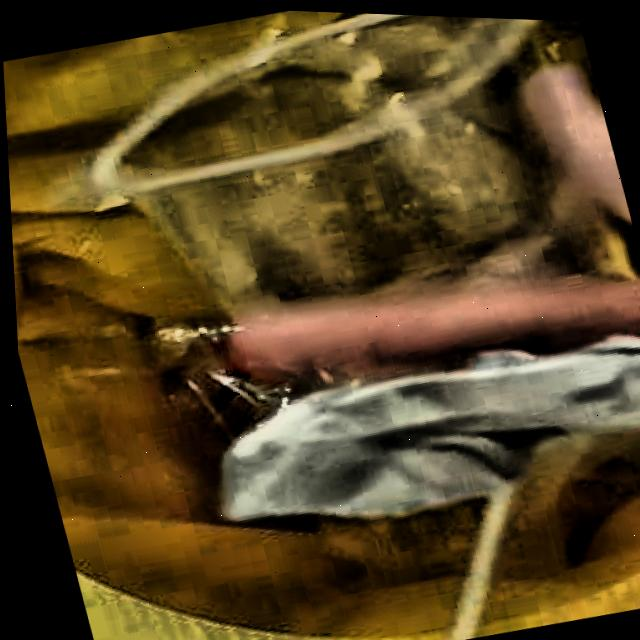plastic: (89, 11, 605, 316)
